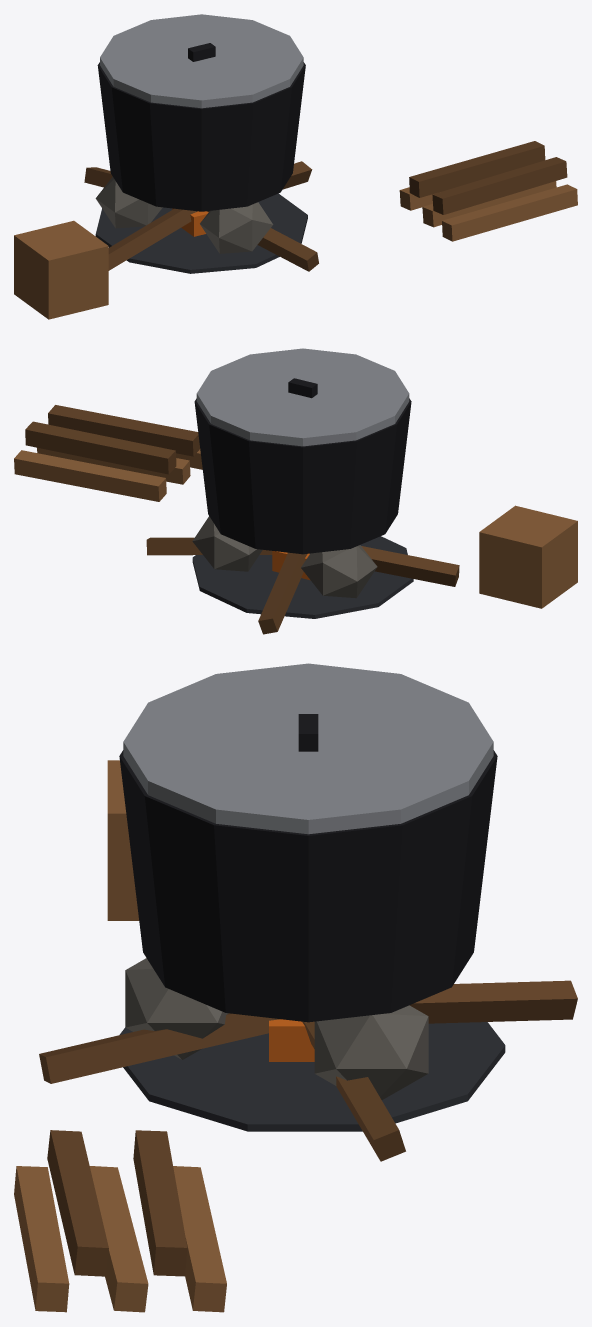
Rendered from prop_cooking-fire.glb.
3 renders of one model, top to bottom at view 1: azimuth 30°, elevation 25°; view 2: azimuth 150°, elevation 25°; view 3: azimuth 270°, elevation 25°, orthographic. The views are drawn at different scales.
Visible parts, largest first — view 1: body; view 2: body; view 3: body.
Part boxes in pixels (x1,y1,x2,y2): body: (14, 14, 577, 319); body: (14, 348, 577, 634); body: (14, 663, 577, 1312).
Size of the model in its own units: 2.71 by 0.92 by 1.43.
